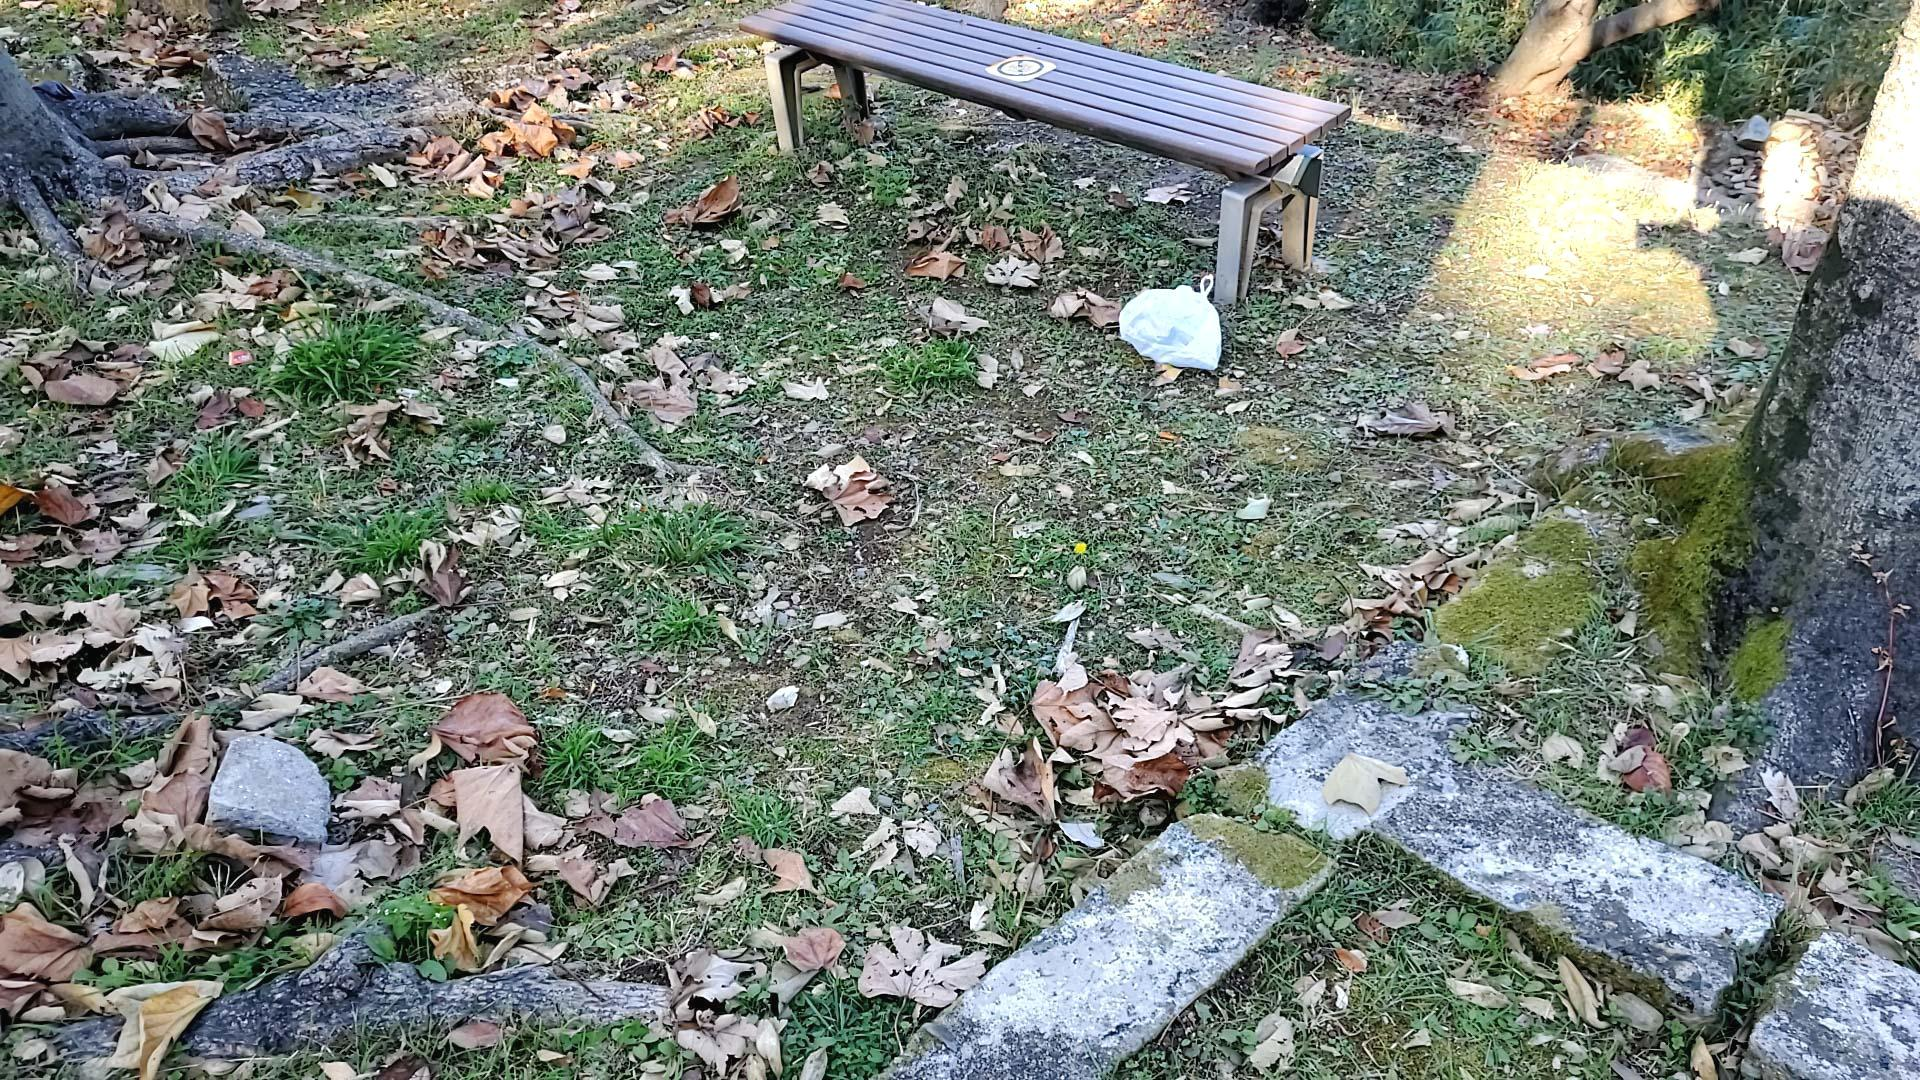white_bag: (1102, 264, 1226, 380)
